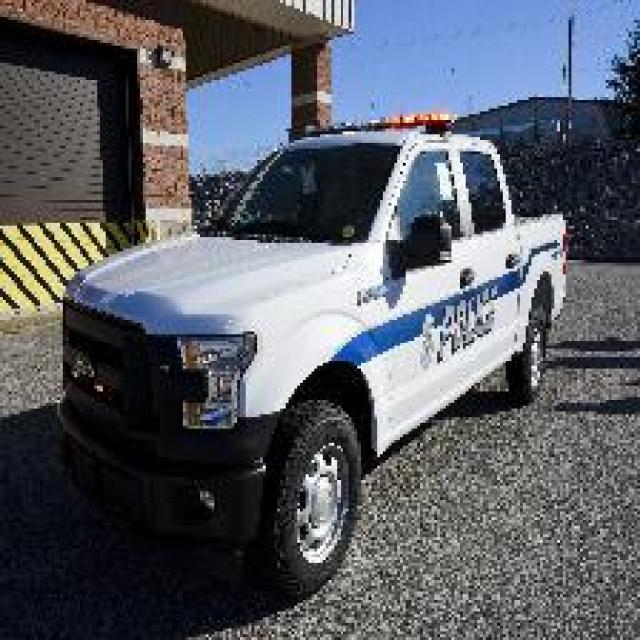Police-car: (54, 109, 569, 597)
